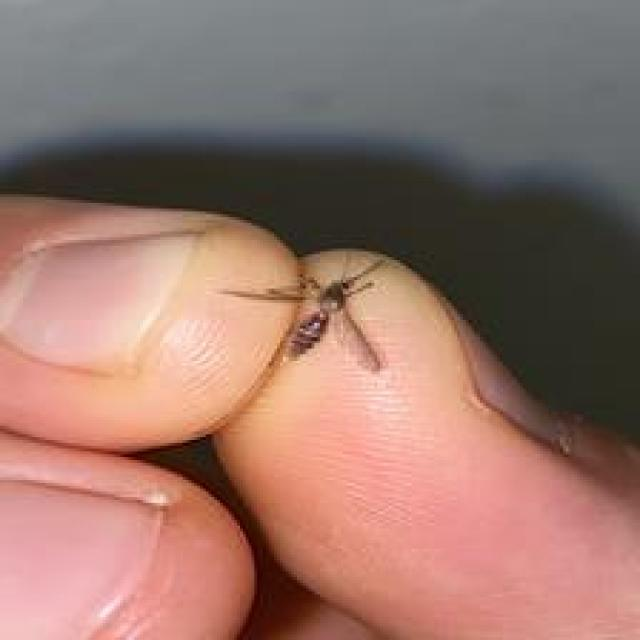Culex: (220, 250, 389, 373)
